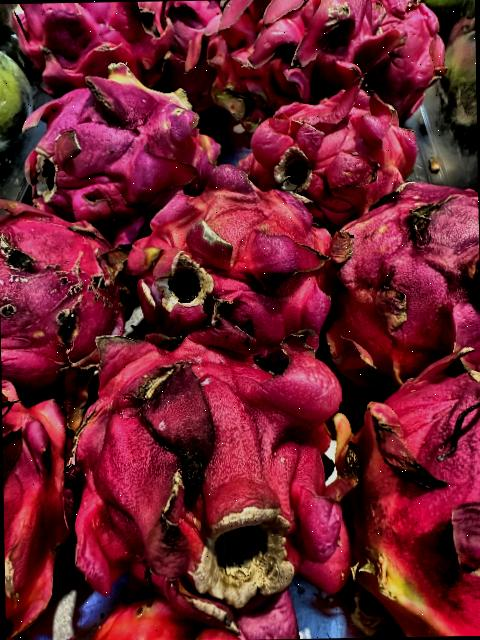buah-naga-belum-matang: (126, 170, 344, 348), (29, 64, 209, 220)
buah-naga-matang: (63, 324, 352, 622), (343, 360, 480, 637), (228, 0, 467, 122), (320, 178, 480, 360), (0, 187, 123, 394), (246, 95, 416, 216), (10, 4, 187, 105)
